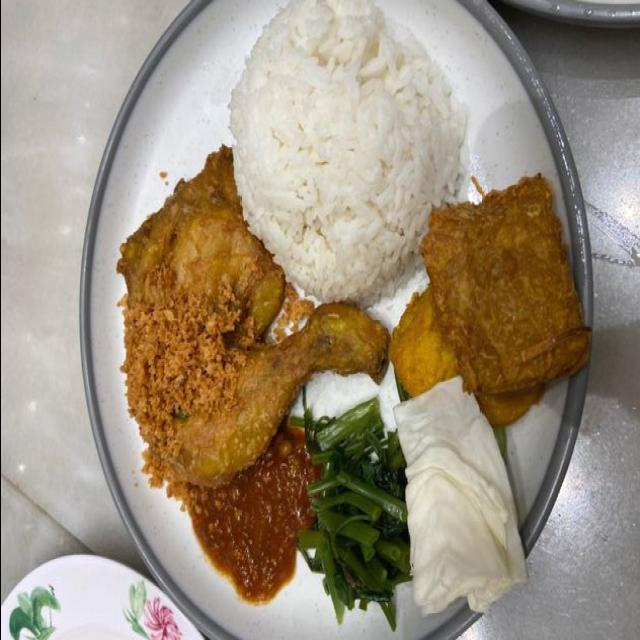ayam goreng: (116, 146, 391, 501)
nasi: (230, 0, 476, 306)
tahu goreng: (419, 173, 591, 429)
